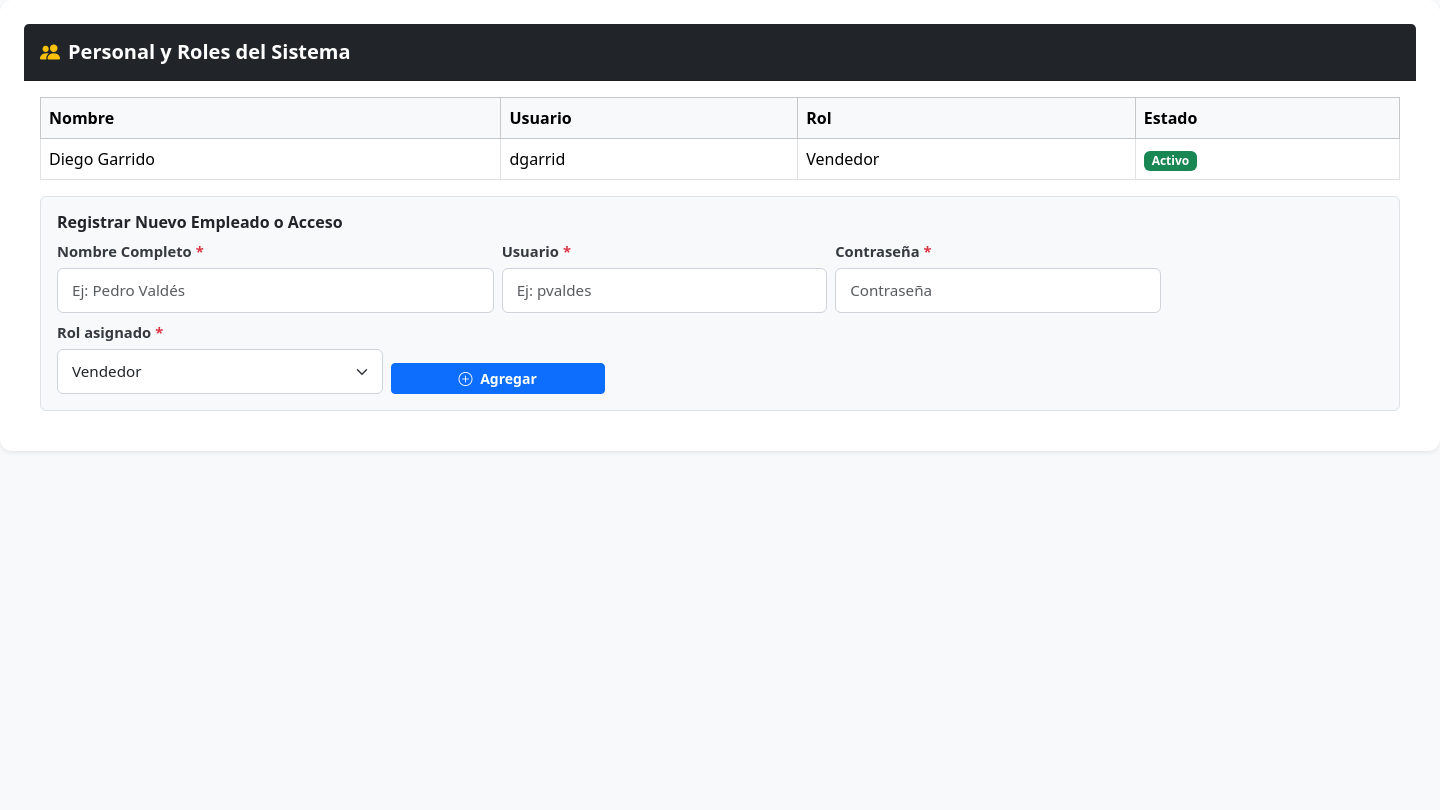
Test: FormularioNuevoUsuario › registra un nuevo usuario, lo muestra en la tabla y lo persiste
The width and height of the screenshot is (1440, 810).
Step 1. Type "Pedro Valdés" into the field labelled "Nombre Completo *" → (275, 291), box [57, 268, 494, 313]
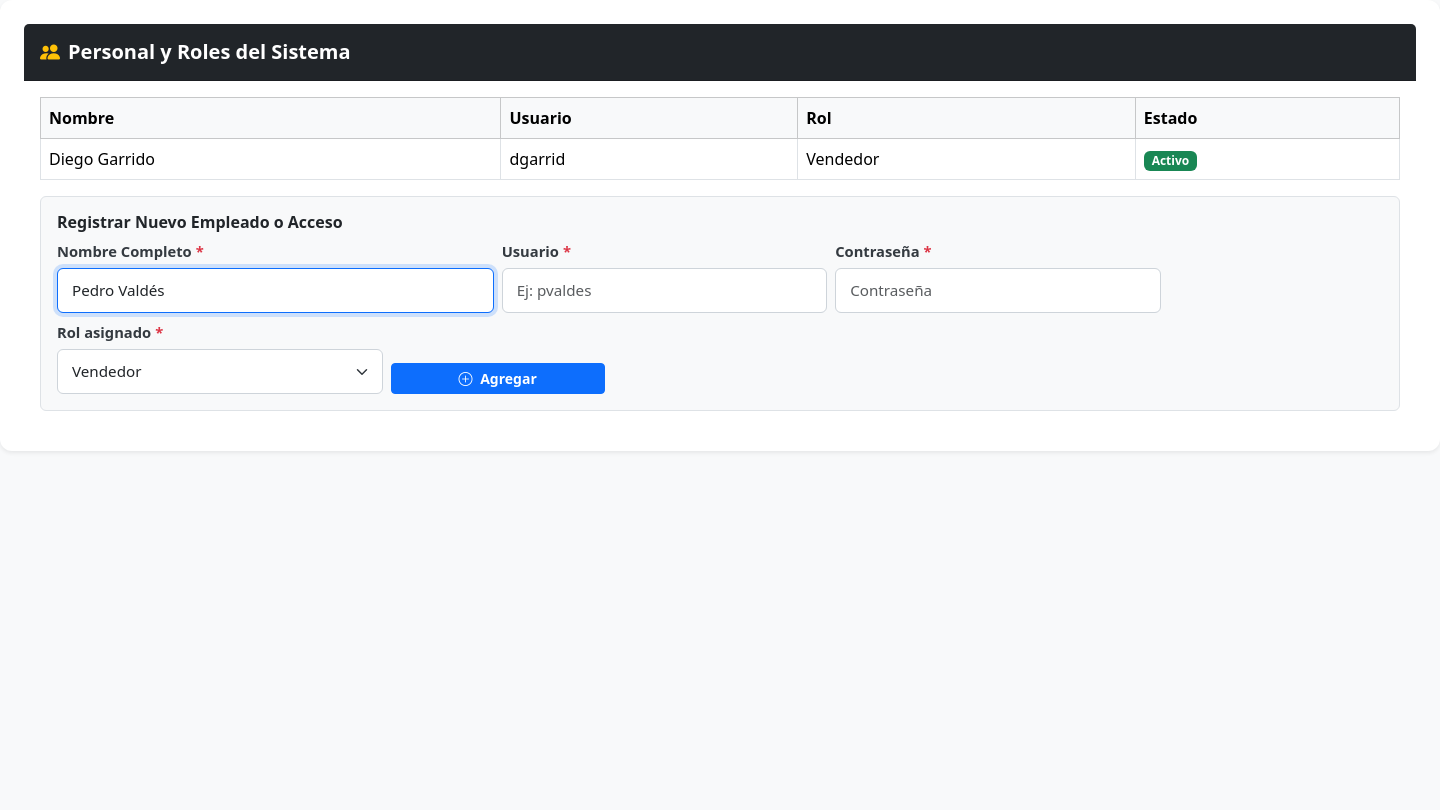
Step 2. Type "pvaldes" into the field labelled "Usuario *" → (664, 291), box [502, 268, 827, 313]
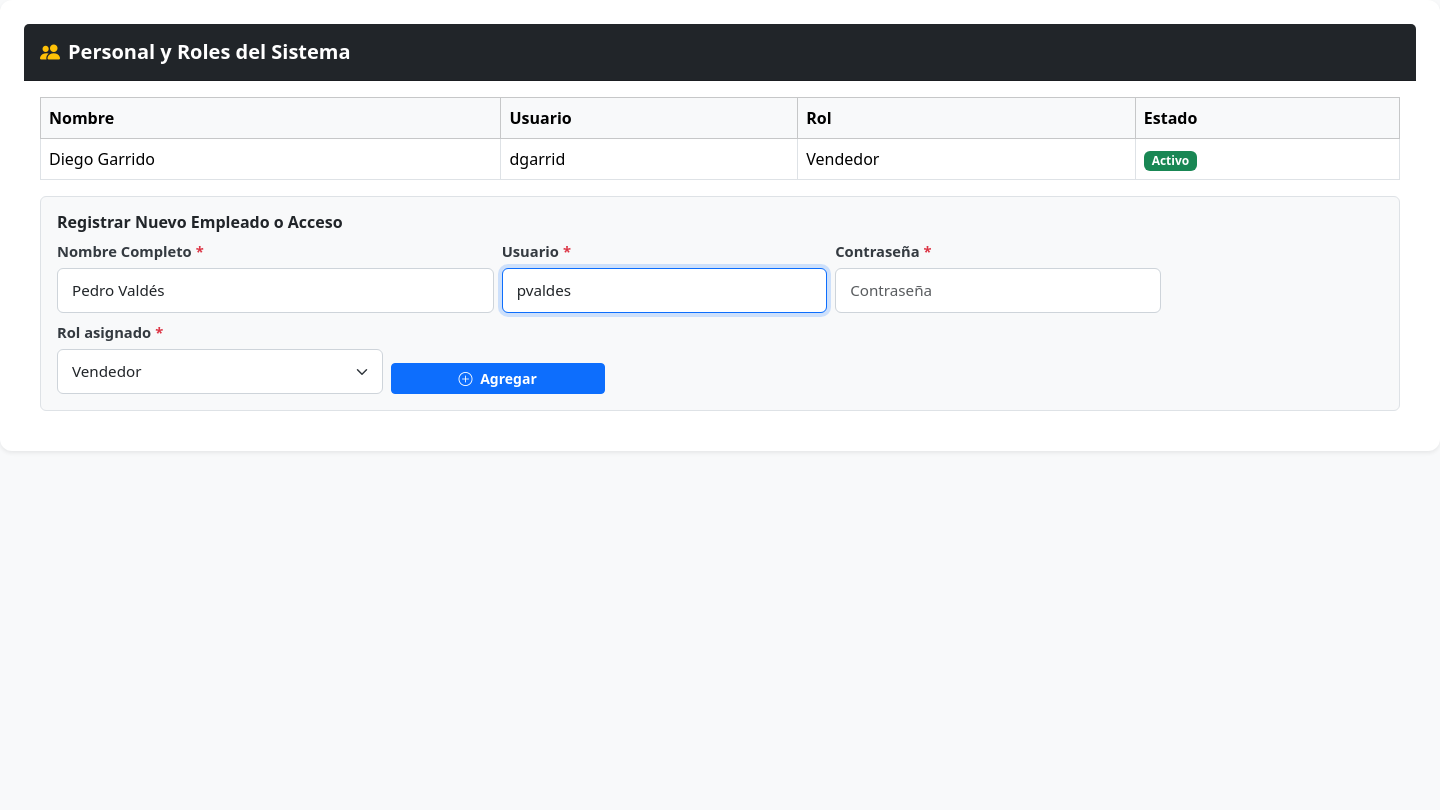
Step 3. Type "clave123" into the password field labelled "Contraseña *" → (998, 291), box [835, 268, 1161, 313]
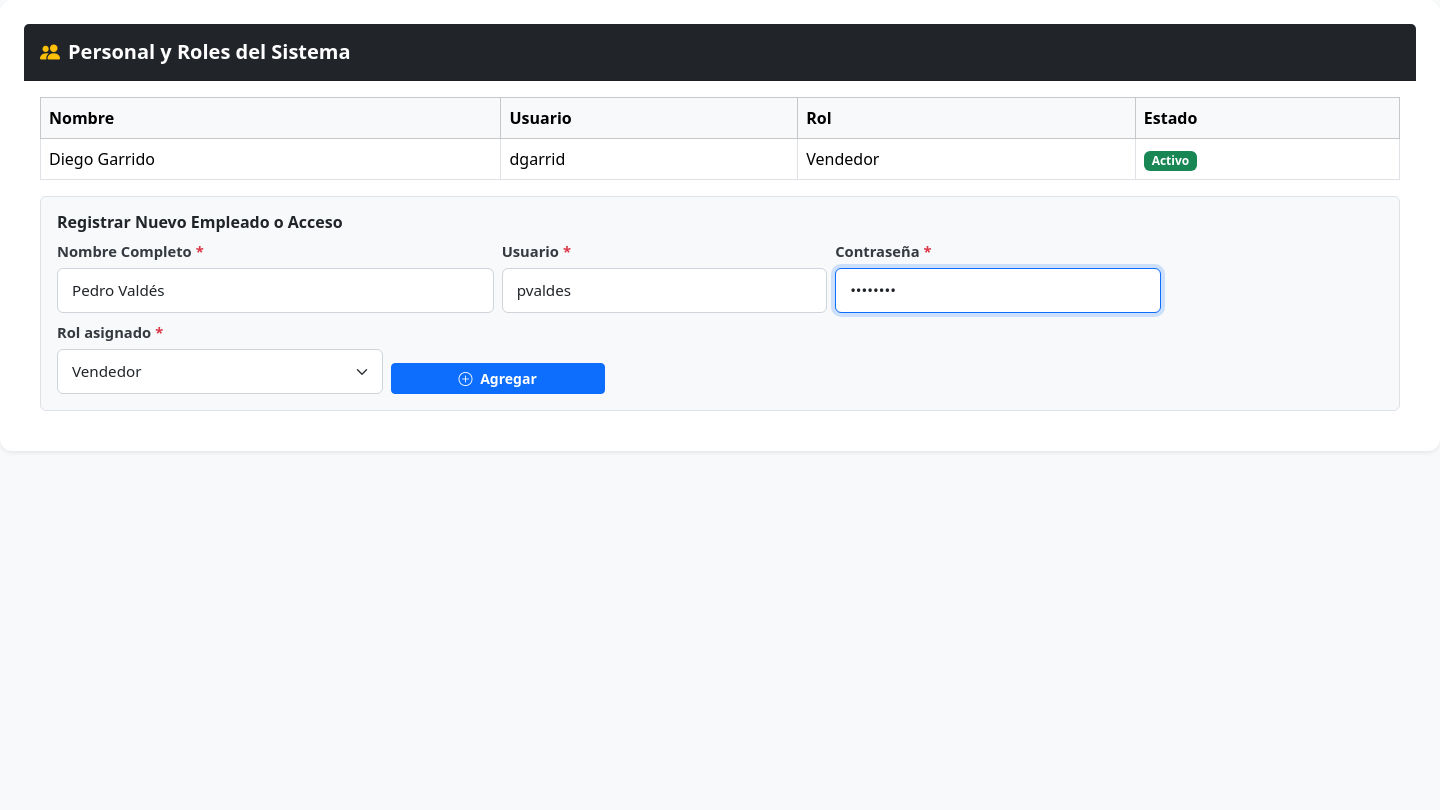
Step 4. Select "Contratista" in the dropdown labelled "Rol asignado *" → (220, 372), box [57, 349, 382, 394]
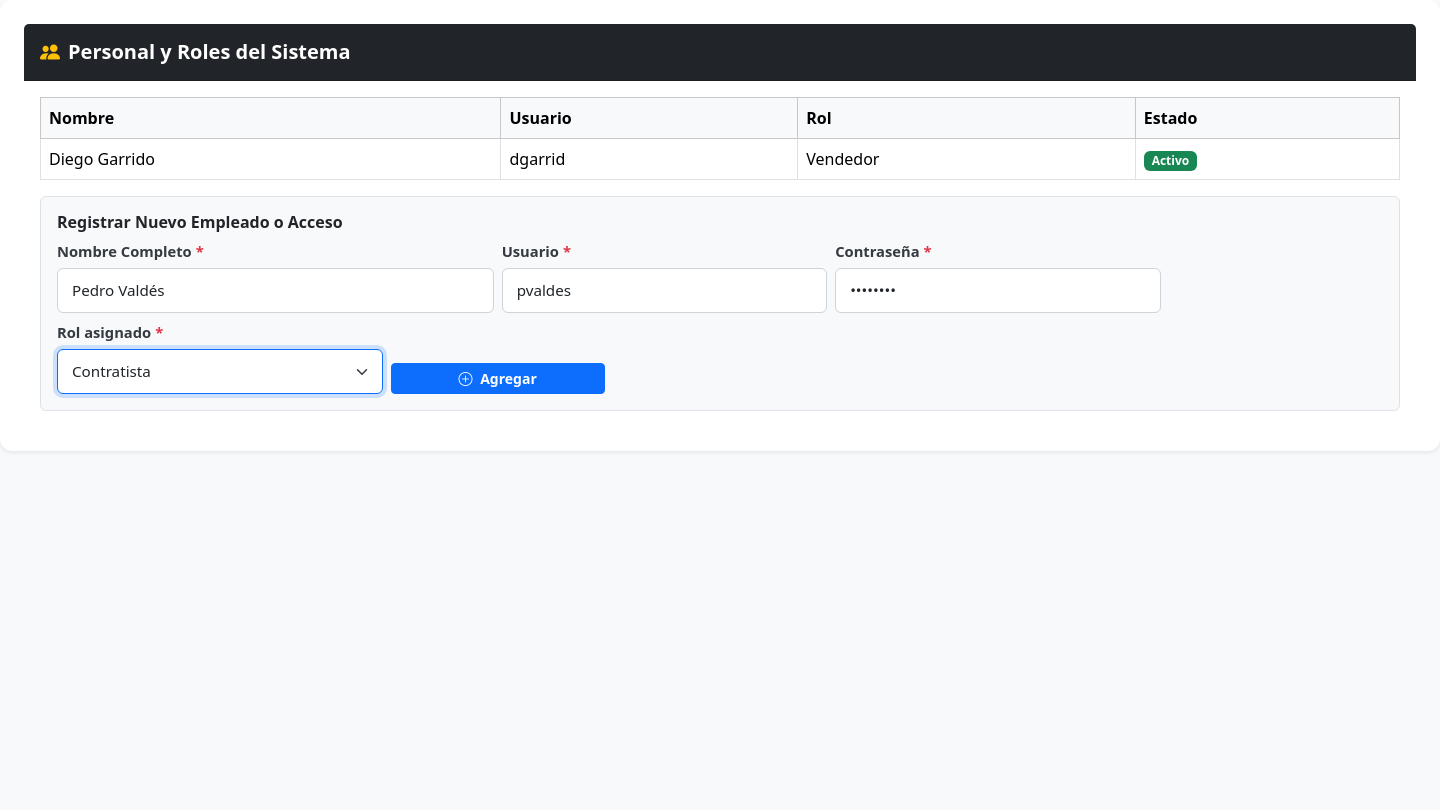
Step 5. Click the button "Agregar" → (498, 379), box [390, 363, 605, 394]
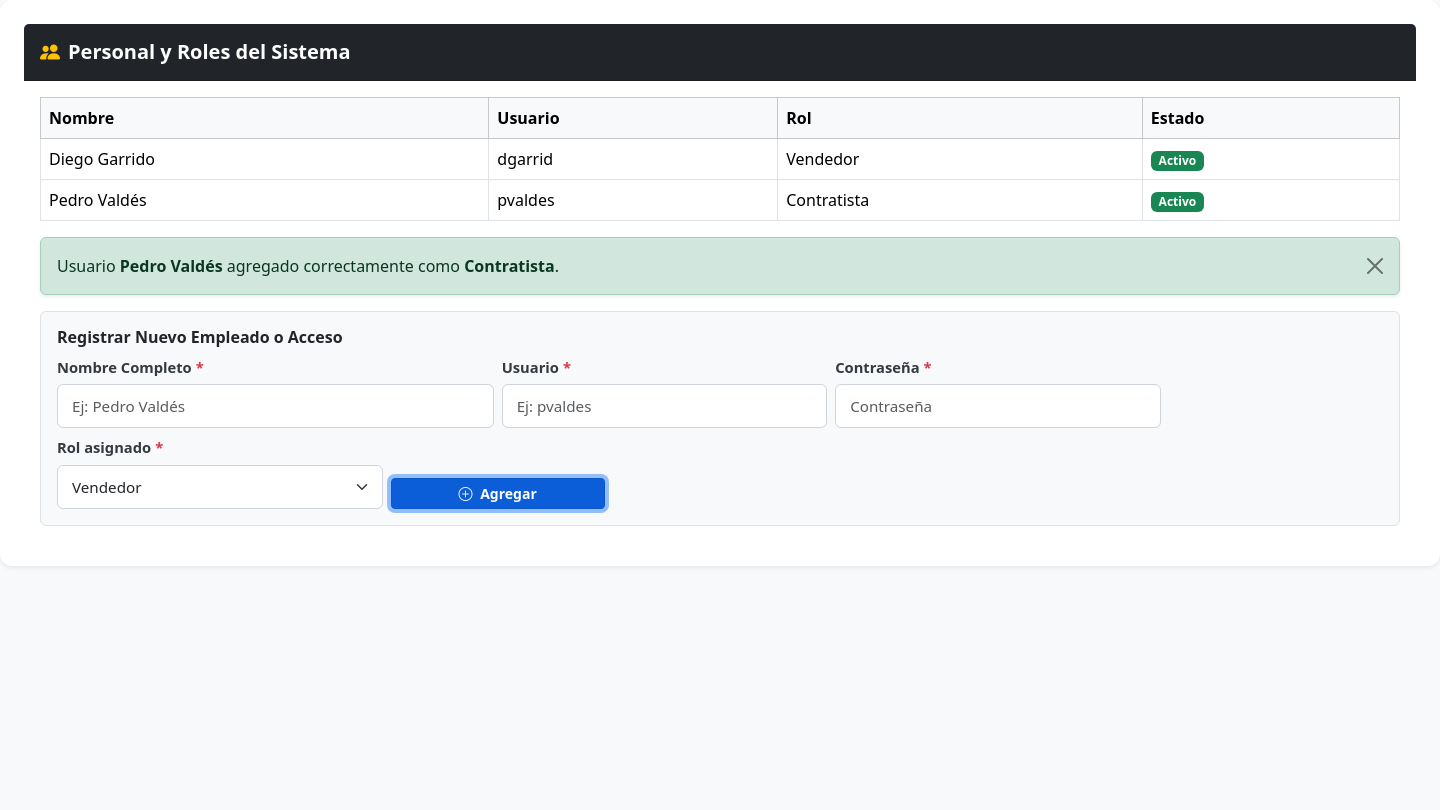
Now the text "agregado correctamente como" is shown, box [223, 255, 460, 277]
Now the text "Pedro Valdés" is shown, box [40, 180, 489, 221]
